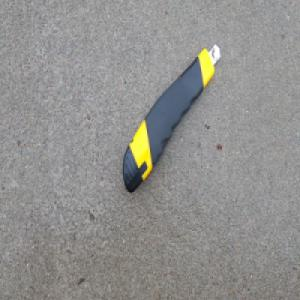Cutter: (120, 42, 219, 194)
